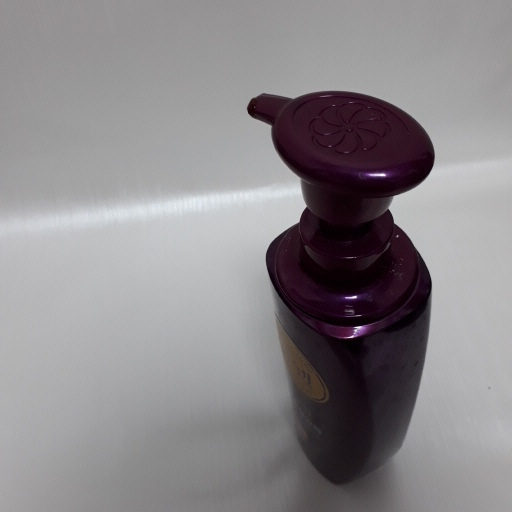Plastic_3: (245, 88, 437, 484)
